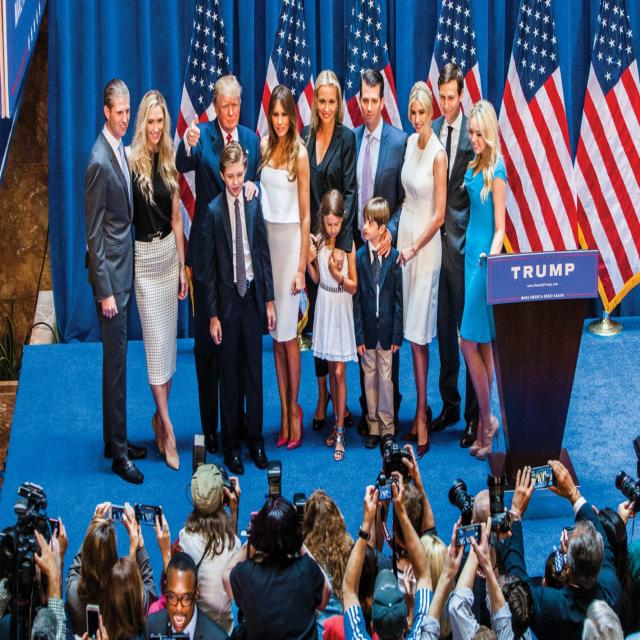body: (172, 74, 260, 456), (78, 74, 150, 488), (121, 88, 192, 472), (200, 141, 278, 475), (297, 69, 357, 434), (504, 457, 624, 639), (349, 66, 408, 436), (393, 78, 448, 463), (258, 83, 312, 451), (430, 61, 480, 450), (458, 98, 510, 460), (400, 515, 535, 640), (224, 491, 334, 639), (341, 469, 434, 638), (306, 186, 358, 463), (350, 195, 404, 452), (66, 500, 158, 640), (366, 442, 437, 618), (172, 462, 242, 639), (583, 427, 640, 638), (0, 481, 69, 640), (295, 490, 358, 639), (97, 503, 160, 640), (144, 550, 232, 640), (454, 488, 506, 630), (68, 582, 108, 640), (350, 541, 378, 617)
